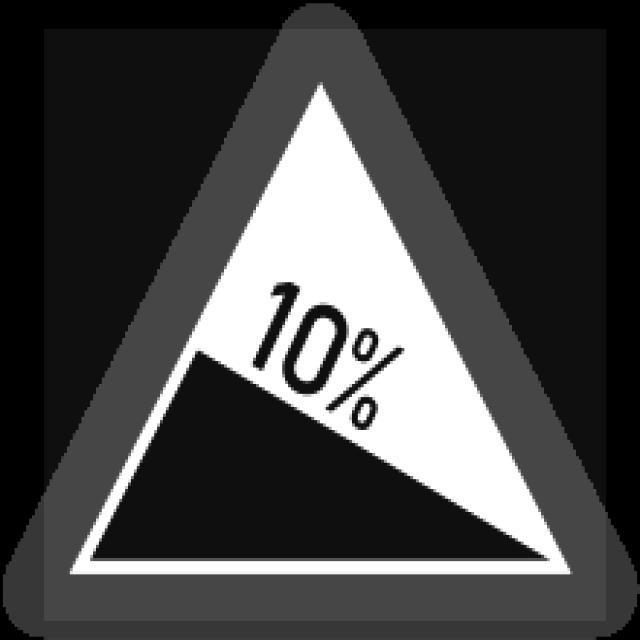steep descent: (33, 26, 612, 611)
